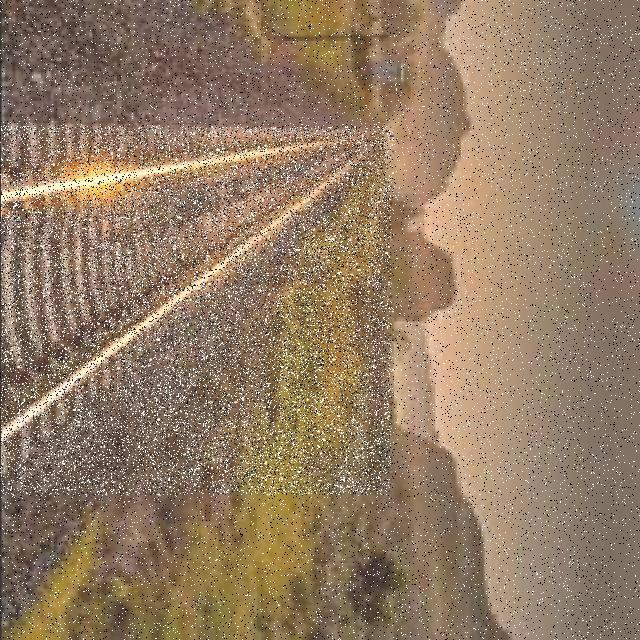rail: (1, 126, 391, 495)
